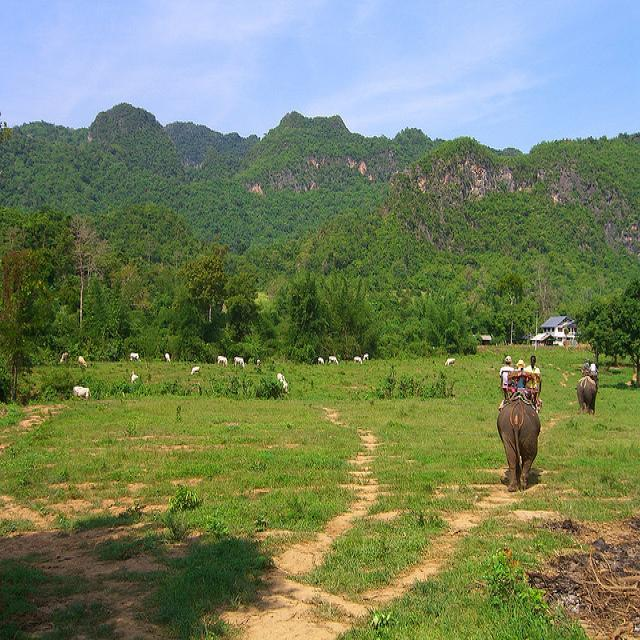cow: (52, 347, 285, 391), (71, 384, 90, 397), (75, 354, 86, 366), (327, 353, 337, 364), (216, 355, 227, 365), (280, 376, 287, 391), (233, 355, 243, 365), (443, 356, 454, 365), (189, 364, 200, 373), (128, 351, 137, 360), (352, 355, 361, 363), (316, 355, 323, 363), (361, 351, 368, 359), (163, 351, 169, 360)
